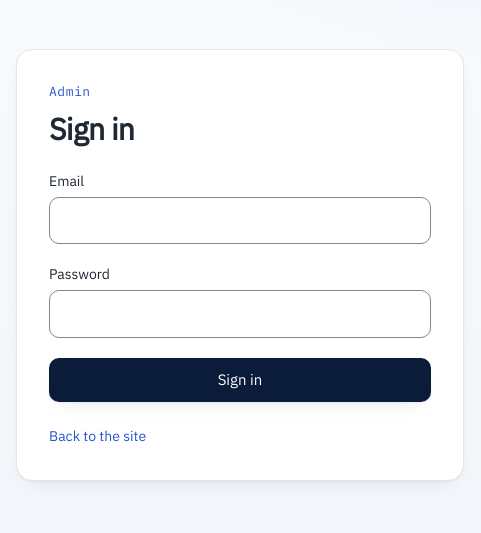
Test: admin authentication › explains rate limiting and requires both fields
This screenshot has width=481, height=533.
Click the button "Sign in".
click(240, 380)  # box [49,358,431,402]
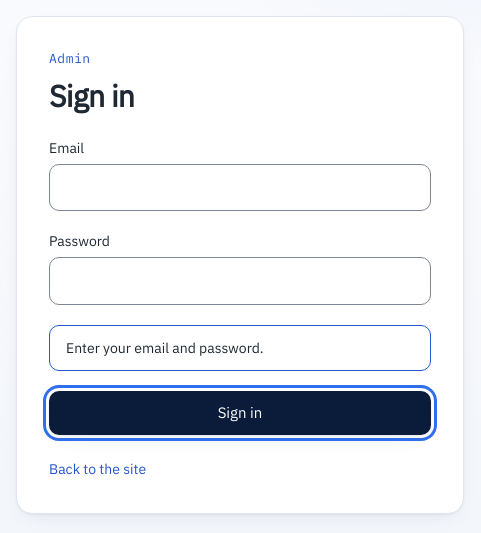
expect the message reads "Enter your email and password.": met, box [66,339,264,357]
Type "a@b.test" into the field labelled "Email".
click(240, 187); type("a@b.test")  # box [49,164,431,211]
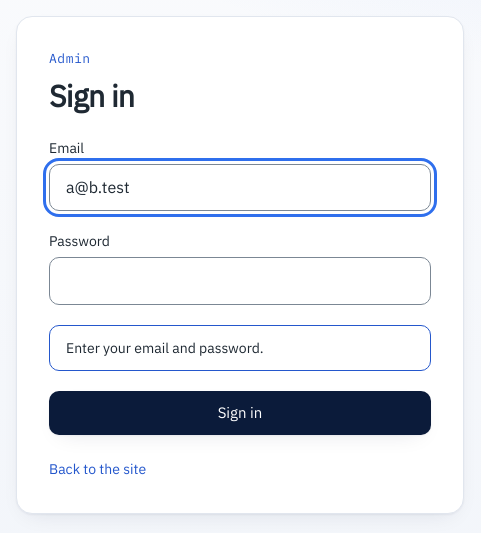
Type "x" into the password field labelled "Password".
click(240, 281); type("x")  # box [49,257,431,305]
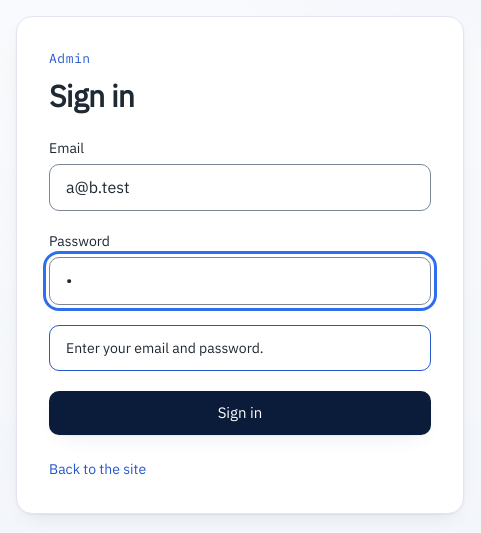
Click the button "Sign in".
click(240, 413)  # box [49,391,431,435]
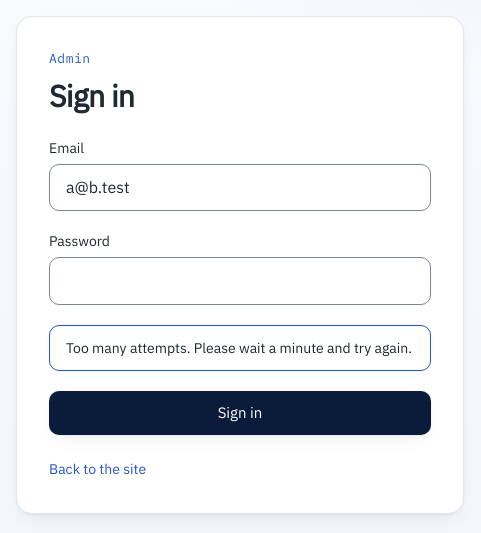
expect the message shows "Too many attempts": met, box [66,339,412,357]
